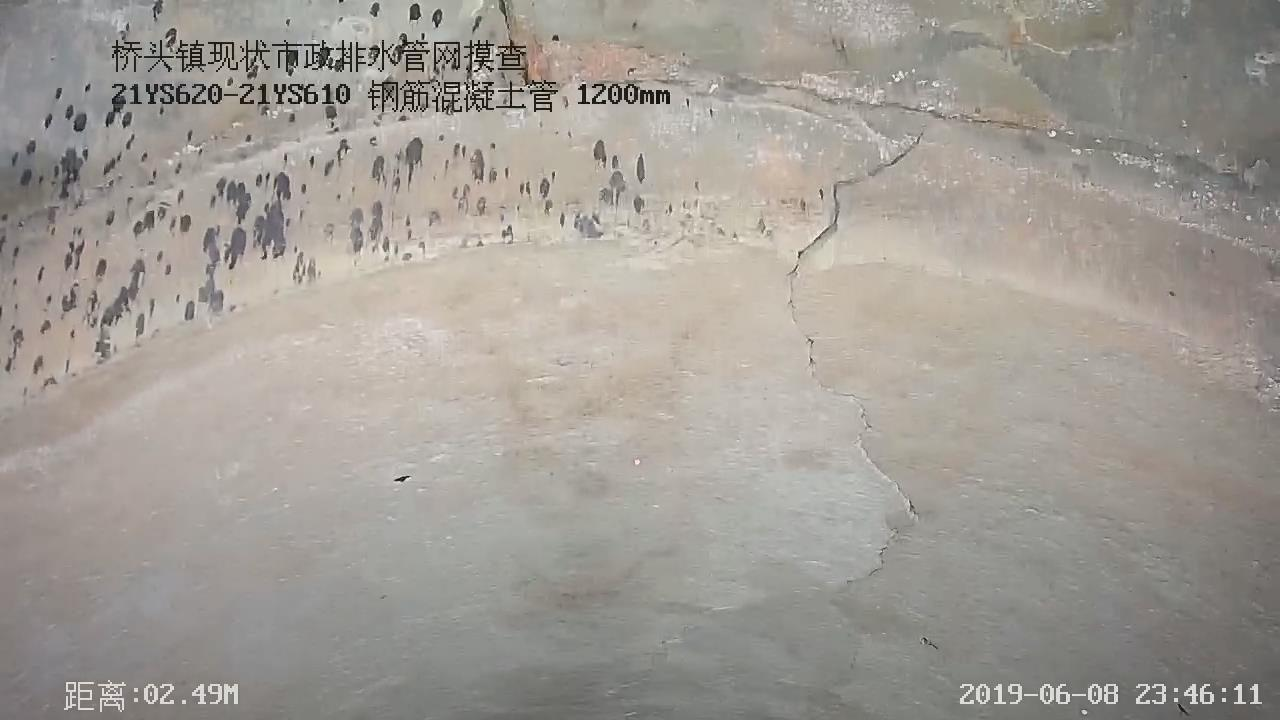PL: (769, 109, 958, 588)
